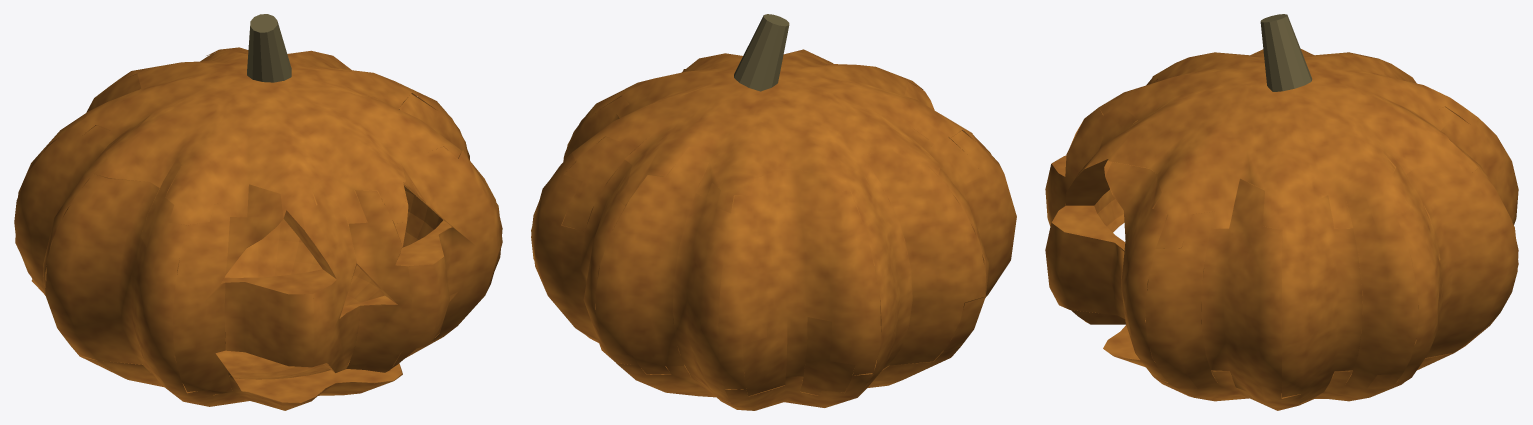
Rendered from jack.glb.
3 renders of one model, left to right at view 1: azimuth 30°, elevation 25°; view 2: azimuth 150°, elevation 25°; view 3: azimuth 270°, elevation 25°, orthographic.
Parts seen in each view (by area): view 1: jack; view 2: jack; view 3: jack.
Part boxes in pixels (<box>): jack: <box>14,14,502,410</box>; jack: <box>531,14,1016,410</box>; jack: <box>1045,14,1518,410</box>.
Size of the model in its own units: 0.9524 by 0.7726 by 0.9101.
2 materials, 1 textured.
